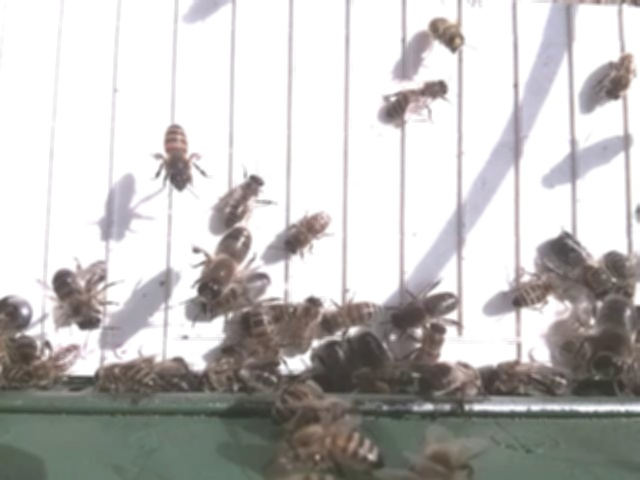Drone: (196, 222, 257, 304), (550, 228, 615, 298), (50, 264, 106, 334), (390, 285, 462, 330)
Worker: (384, 75, 451, 124), (282, 206, 335, 257), (224, 169, 266, 226), (288, 293, 324, 356), (510, 272, 569, 310), (326, 295, 386, 332), (600, 50, 640, 103), (161, 121, 190, 194), (426, 14, 468, 54)
